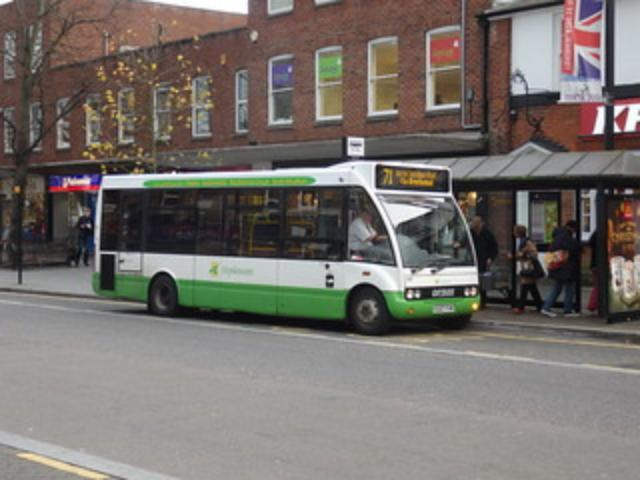bus: (92, 158, 480, 336)
